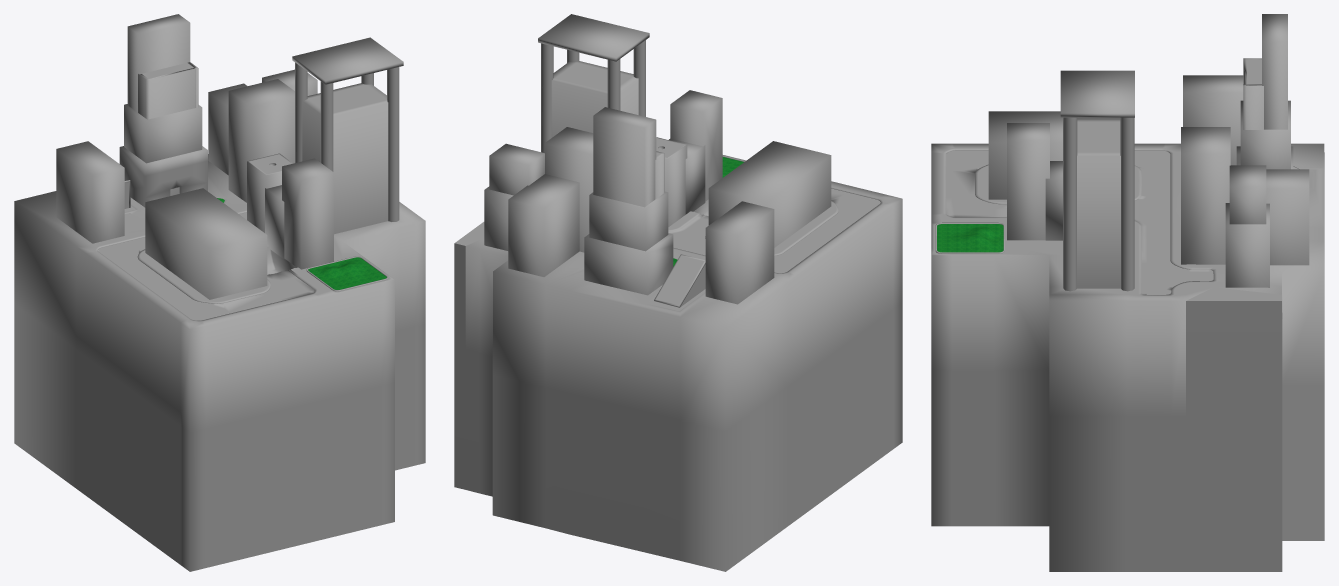
Rendered from MotionCityPlanet.obj.
3 views of the same model, side by side, from view 1: azimuth 30°, elevation 25°; view 2: azimuth 150°, elevation 25°; view 3: azimuth 270°, elevation 25° (orthographic). The views are drawn at different scales.
Parts seen in each view (by area): view 1: ConcreteB.016_Plane.003, COLGRASS_Plane.023; view 2: ConcreteB.016_Plane.003, COLGRASS_Plane.023; view 3: ConcreteB.016_Plane.003, COLGRASS_Plane.023.
Boxes of the visible parts, x1,y1,x2,y2 form: ConcreteB.016_Plane.003: (14, 14, 425, 571); COLGRASS_Plane.023: (142, 63, 386, 289); ConcreteB.016_Plane.003: (454, 14, 902, 571); COLGRASS_Plane.023: (555, 63, 743, 266); ConcreteB.016_Plane.003: (931, 14, 1324, 571); COLGRASS_Plane.023: (937, 59, 1261, 252).
Size of the model in its own units: 13780 by 18517 by 14539.
Materials: 3 (1 with a texture image).
